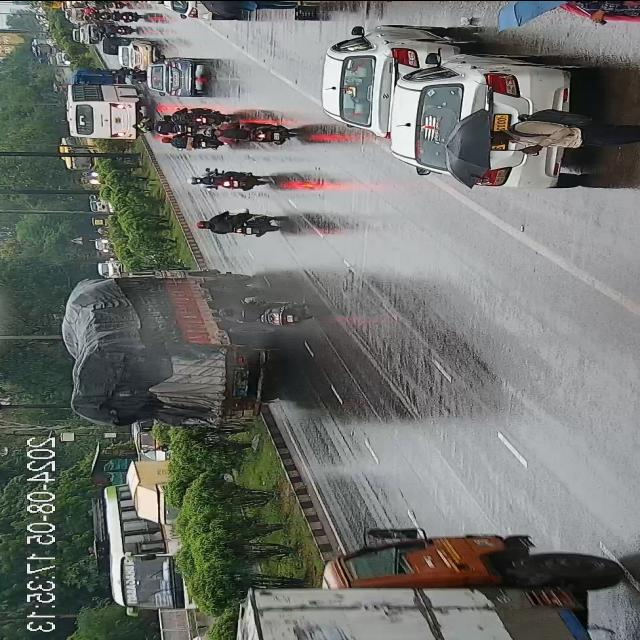2-wheelers: (224, 297, 306, 333), (196, 208, 276, 244), (188, 165, 266, 198), (212, 121, 296, 146), (163, 106, 230, 128), (87, 7, 143, 27), (164, 135, 220, 151), (132, 120, 172, 134)
auto: (103, 35, 123, 56)
bus: (285, 529, 640, 640), (65, 72, 143, 146), (58, 136, 100, 170), (31, 36, 58, 56)
car: (396, 34, 592, 186), (322, 27, 428, 134), (148, 56, 203, 96), (119, 42, 154, 72), (99, 260, 122, 278), (72, 26, 94, 44), (95, 236, 115, 252)
pedestrian: (484, 111, 640, 161), (540, 0, 640, 27), (196, 1, 295, 14)
truck: (68, 272, 268, 429)
